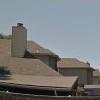Chimney: (7, 19, 35, 66)
